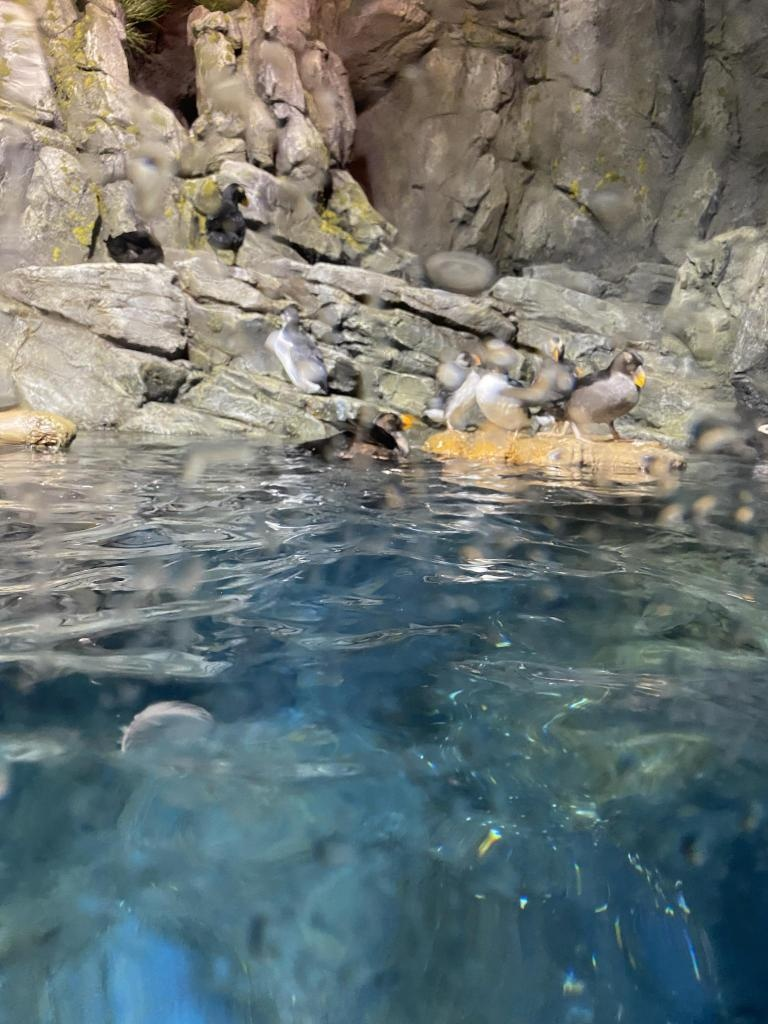puffin: (562, 350, 646, 442), (502, 337, 584, 423), (267, 304, 333, 396), (188, 180, 252, 264), (424, 360, 496, 434), (476, 363, 536, 433), (344, 402, 409, 454), (106, 230, 166, 264), (433, 352, 479, 394)
